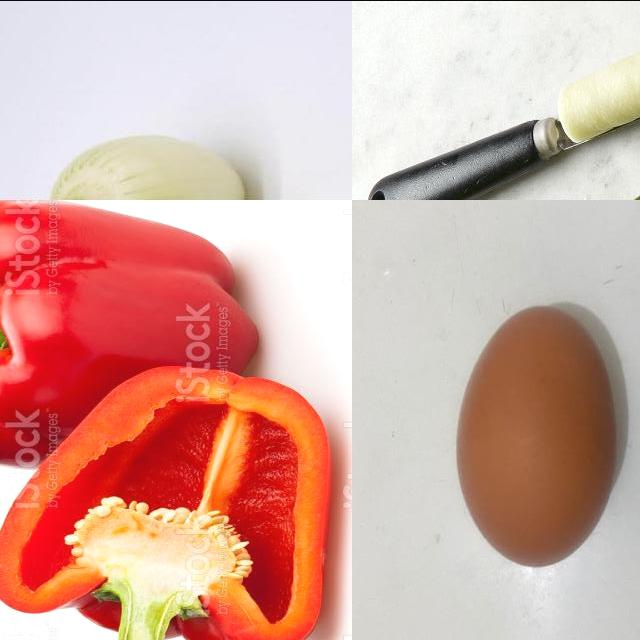bell_pepper: (1, 365, 342, 640), (1, 200, 265, 469)
egg: (450, 301, 621, 571)
onion: (49, 133, 253, 200)
zucchini: (353, 145, 640, 200)
